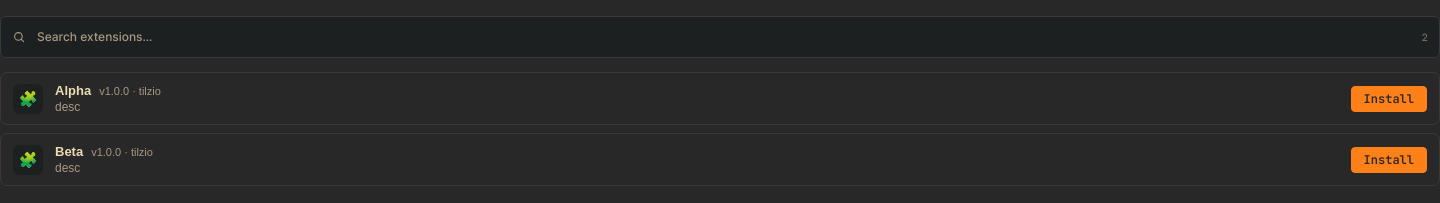
StoreTab › filters by search query (name/description/id)
Type "alp" into the search field named "search the extension store" at (724, 37), box [35,24,1413,50]
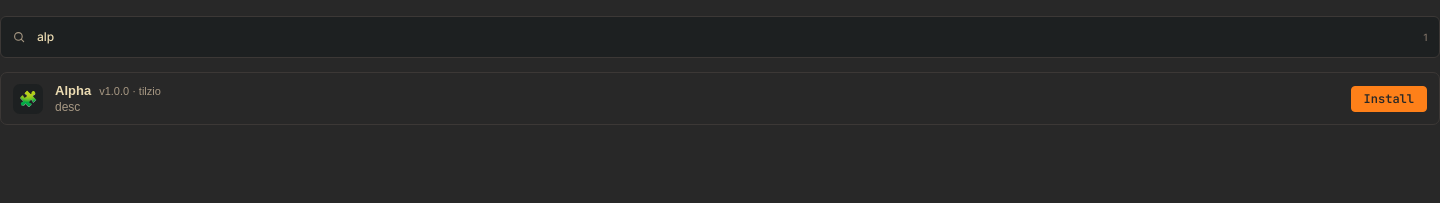
Check: the text "Alpha" is shown, box [55,83,91,98]
Check: the button "Beta" is gone
